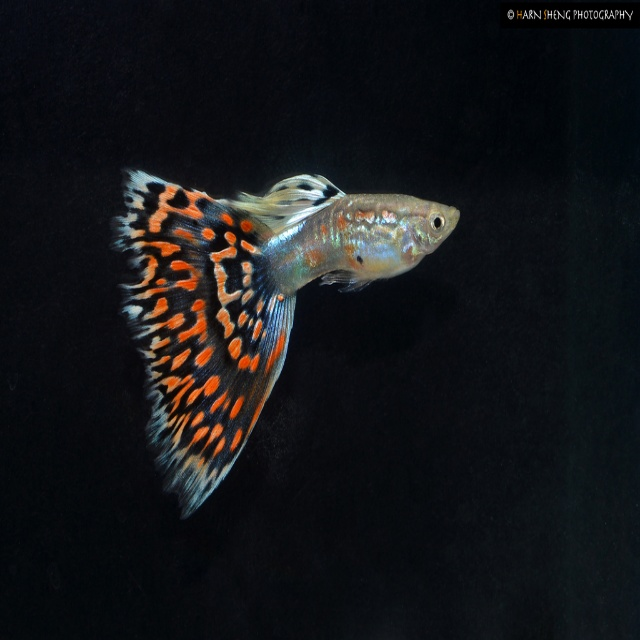Fish: (93, 173, 442, 519)
